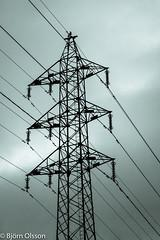power_tower: (24, 33, 121, 240)
